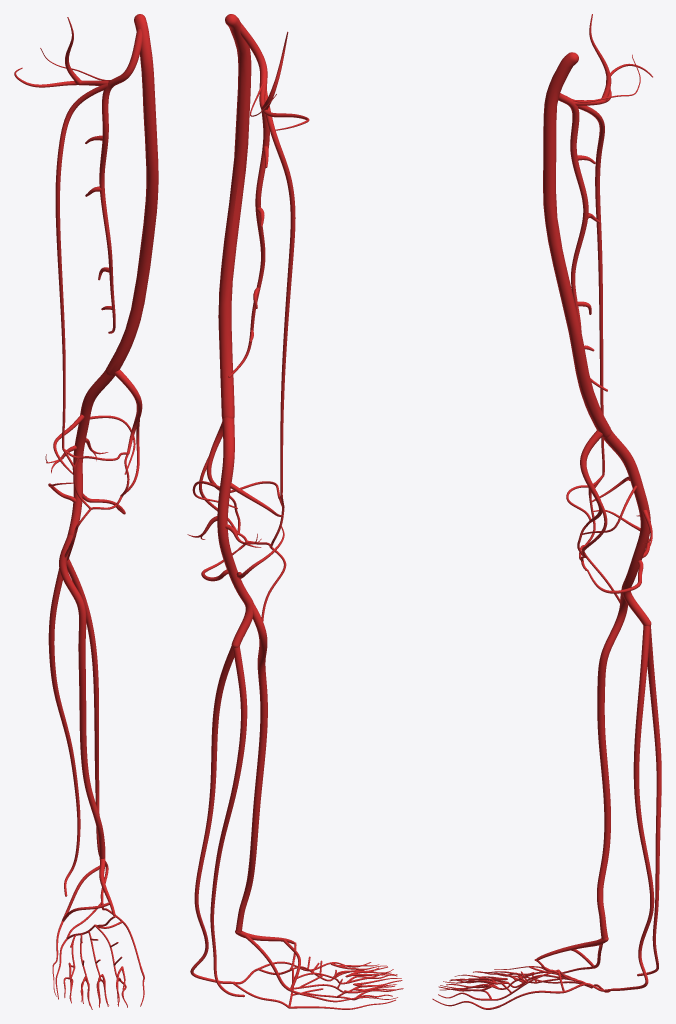
File: arteries.lower_limb_right.glb
The picture shows the model from 3 angles, left to right: view 1: azimuth 30°, elevation 25°; view 2: azimuth 150°, elevation 25°; view 3: azimuth 270°, elevation 25°; orthographic projection. The views are drawn at different scales.
Parts seen in each view (by area): view 1: right_femoral_artery, right_anterior_tibial_artery, right_set_of_perforating_arteries, descending_branch_of_right_lateral_circumflex_femoral_artery, right_set_of_dorsal_digital_arteries, right_popliteal_artery, right_posterior_tibial_artery, right_anterior_tibial_recurrent_artery, right_descending_genicular_artery, right_set_of_calcaneal_branches_of_posterior_tibial_artery, right_dorsal_digital_artery_of_foot, right_set_of_plantar_digital_arteries_proper; view 2: right_femoral_artery, right_anterior_tibial_artery, right_popliteal_artery, right_set_of_perforating_arteries, right_set_of_dorsal_digital_arteries, right_posterior_tibial_artery, descending_branch_of_right_lateral_circumflex_femoral_artery, right_set_of_plantar_digital_arteries_proper, right_dorsal_digital_artery_of_foot, right_anterior_tibial_recurrent_artery, right_set_of_calcaneal_branches_of_posterior_tibial_artery, right_descending_genicular_artery; view 3: right_femoral_artery, right_anterior_tibial_artery, right_posterior_tibial_artery, right_popliteal_artery, right_set_of_dorsal_digital_arteries, right_set_of_perforating_arteries, descending_branch_of_right_lateral_circumflex_femoral_artery, right_set_of_plantar_digital_arteries_proper, right_descending_genicular_artery, right_dorsal_digital_artery_of_foot, right_anterior_tibial_recurrent_artery, right_set_of_calcaneal_branches_of_posterior_tibial_artery.
Boxes of the visible parts, <box> form: right_femoral_artery: <box>105,14,158,376</box>; right_anterior_tibial_artery: <box>59,534,105,858</box>; right_set_of_perforating_arteries: <box>85,29,142,333</box>; descending_branch_of_right_lateral_circumflex_femoral_artery: <box>55,83,107,449</box>; right_set_of_dorsal_digital_arteries: <box>48,568,80,896</box>; right_popliteal_artery: <box>67,370,114,560</box>; right_posterior_tibial_artery: <box>66,559,108,901</box>; right_anterior_tibial_recurrent_artery: <box>63,449,129,557</box>; right_descending_genicular_artery: <box>114,369,142,495</box>; right_set_of_calcaneal_branches_of_posterior_tibial_artery: <box>14,17,108,87</box>; right_dorsal_digital_artery_of_foot: <box>52,921,125,1006</box>; right_set_of_plantar_digital_arteries_proper: <box>55,936,144,1009</box>; right_femoral_artery: <box>218,14,251,418</box>; right_anterior_tibial_artery: <box>236,603,267,932</box>; right_popliteal_artery: <box>217,417,253,647</box>; right_set_of_perforating_arteries: <box>228,23,269,377</box>; right_set_of_dorsal_digital_arteries: <box>210,646,247,997</box>; right_posterior_tibial_artery: <box>190,646,234,983</box>; descending_branch_of_right_lateral_circumflex_femoral_artery: <box>264,88,295,498</box>; right_set_of_plantar_digital_arteries_proper: <box>289,956,403,1009</box>; right_dorsal_digital_artery_of_foot: <box>291,962,401,1002</box>; right_anterior_tibial_recurrent_artery: <box>229,481,286,621</box>; right_set_of_calcaneal_branches_of_posterior_tibial_artery: <box>259,31,309,130</box>; right_descending_genicular_artery: <box>199,422,238,534</box>; right_femoral_artery: <box>543,52,611,437</box>; right_anterior_tibial_artery: <box>597,589,627,939</box>; right_posterior_tibial_artery: <box>610,625,654,990</box>; right_popliteal_artery: <box>602,430,651,626</box>; right_set_of_dorsal_digital_arteries: <box>637,626,661,976</box>; right_set_of_perforating_arteries: <box>552,73,607,391</box>; descending_branch_of_right_lateral_circumflex_femoral_artery: <box>577,105,604,475</box>; right_set_of_plantar_digital_arteries_proper: <box>432,966,589,1009</box>; right_descending_genicular_artery: <box>580,430,607,557</box>; right_dorsal_digital_artery_of_foot: <box>440,966,593,991</box>; right_anterior_tibial_recurrent_artery: <box>566,475,620,603</box>; right_set_of_calcaneal_branches_of_posterior_tibial_artery: <box>574,14,652,105</box>.
Bounding box in the file's own units: 0.1378 × 0.9092 × 0.1912.
